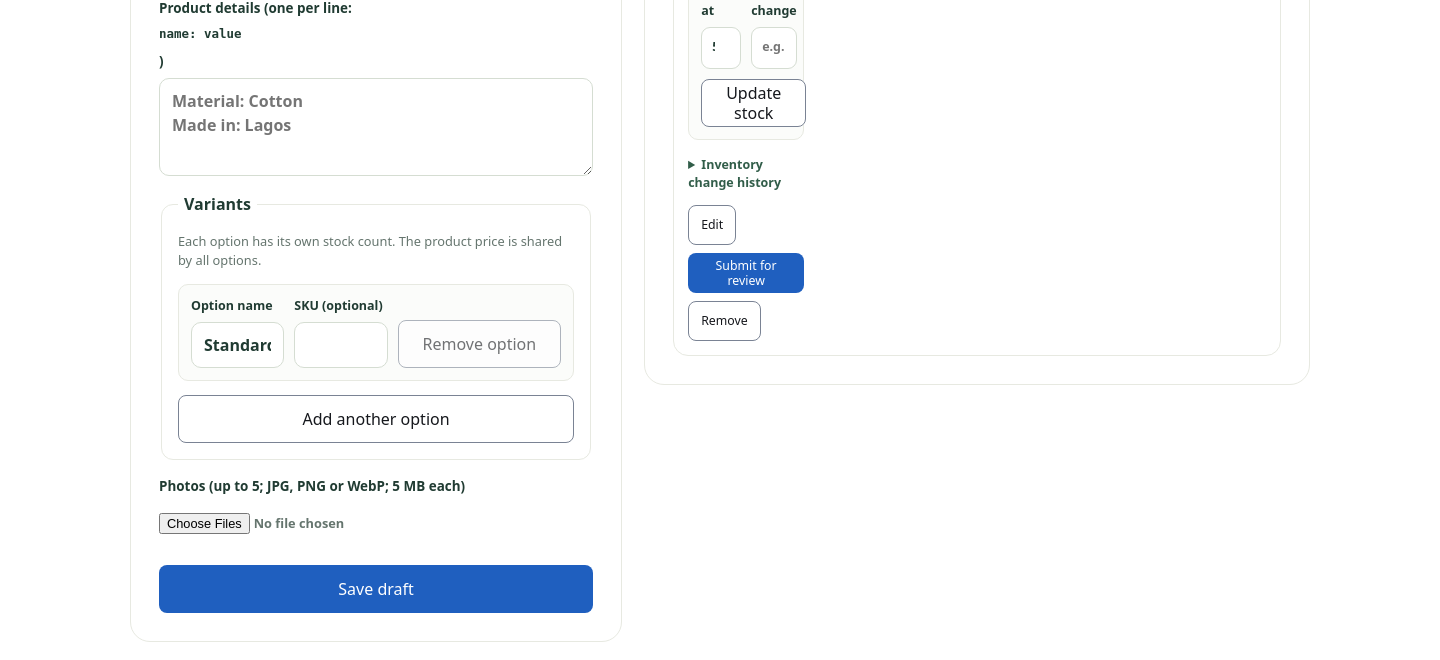
Test: seller product listings › submits a seller's draft for moderation
(page scrolled)
Click the button "Submit for review" at (746, 273), box [688, 253, 804, 293]
(page scrolled)
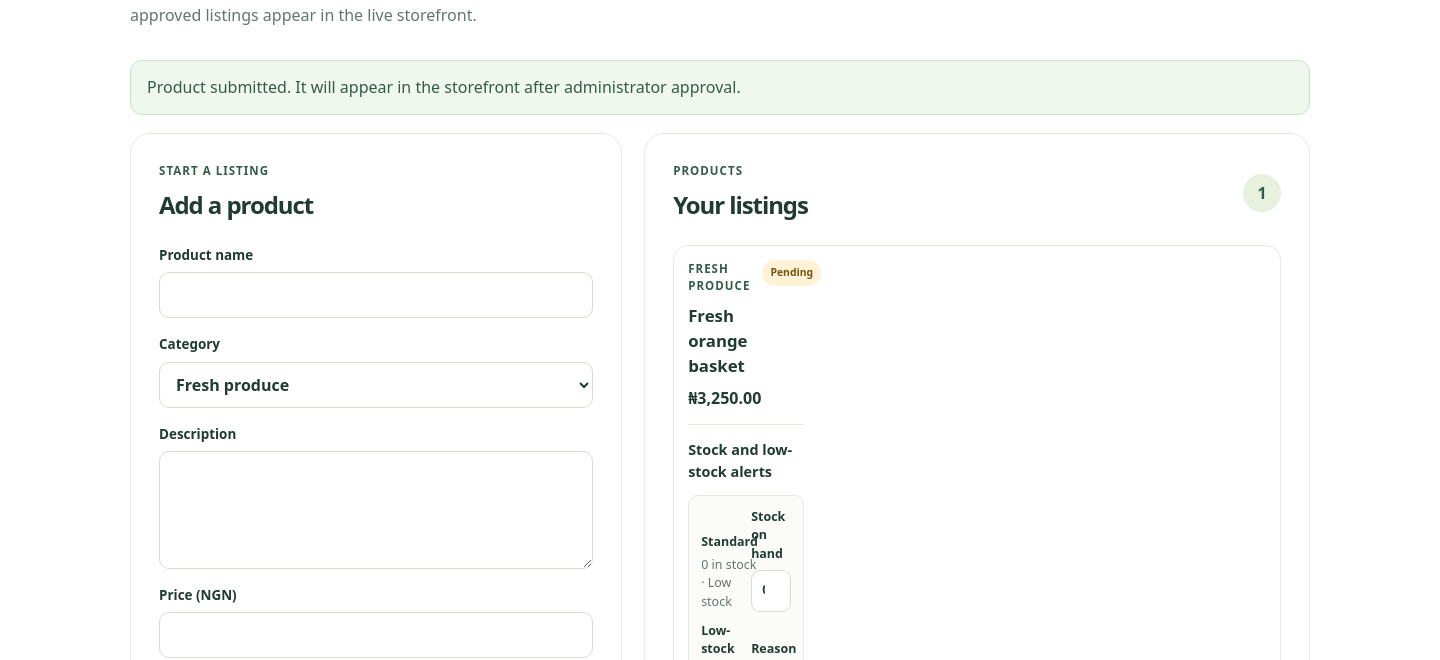
Check: the message shows "submitted", box [147, 76, 741, 98]
Check: the text "pending" is shown, box [762, 260, 821, 286]
